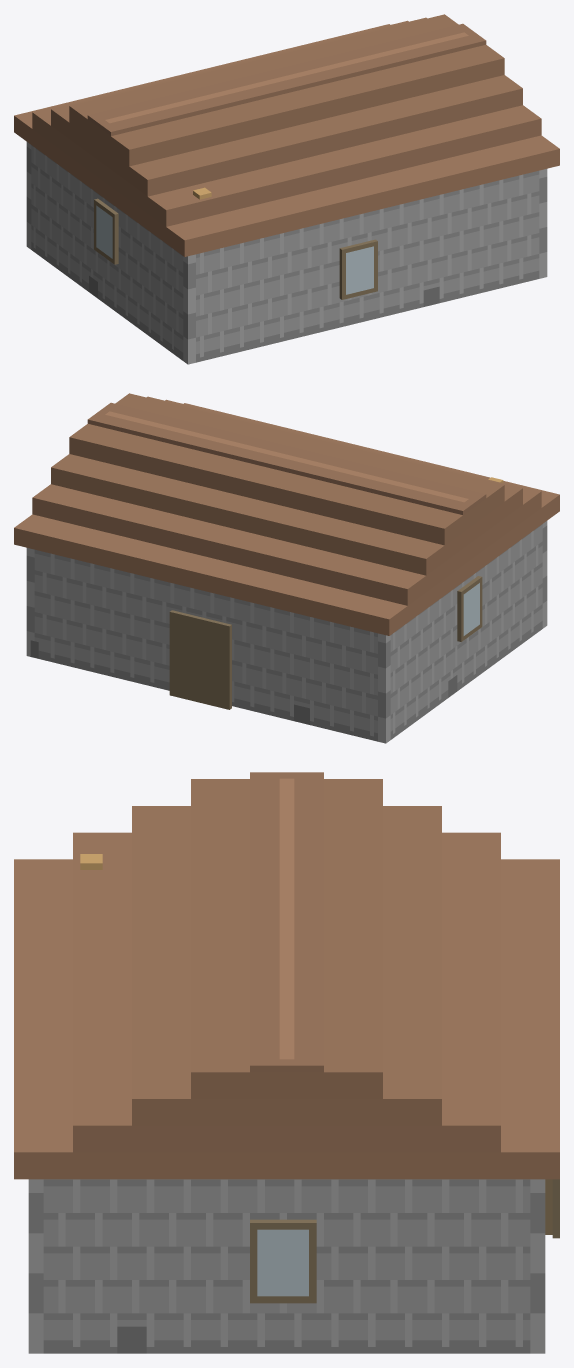
Rendered from herreria_04.glb.
3 renders of one model, top to bottom at view 1: azimuth 30°, elevation 25°; view 2: azimuth 150°, elevation 25°; view 3: azimuth 270°, elevation 25°, orthographic. The views are drawn at different scales.
Visible parts, largest first — view 1: herreria_04; view 2: herreria_04; view 3: herreria_04.
Boxes of the visible parts, x1,y1,x2,y2 form: herreria_04: (14,14,559,364); herreria_04: (14,393,559,743); herreria_04: (14,772,559,1353).
Size of the model in its own units: 9.4 by 4.4 by 7.4.
